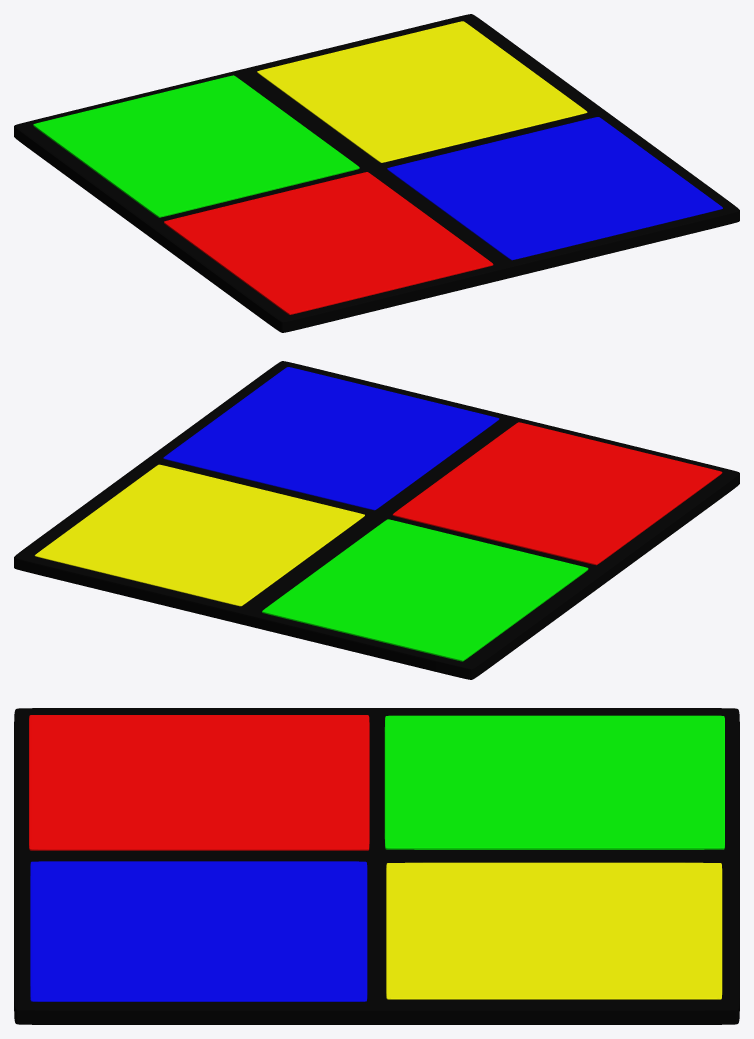
File: dance floor.fbx
3 renders of one model, top to bottom at view 1: azimuth 30°, elevation 25°; view 2: azimuth 150°, elevation 25°; view 3: azimuth 270°, elevation 25°, orthographic. The views are drawn at different scales.
Parts seen in each view (by area): view 1: dance floor; view 2: dance floor; view 3: dance floor.
Part boxes in pixels (x1,y1,x2,y2): dance floor: [14, 14, 739, 332]; dance floor: [14, 361, 739, 679]; dance floor: [14, 708, 739, 1024].
Bounding box in the file's own units: 0.0757 × 0.00204 × 0.0769.
